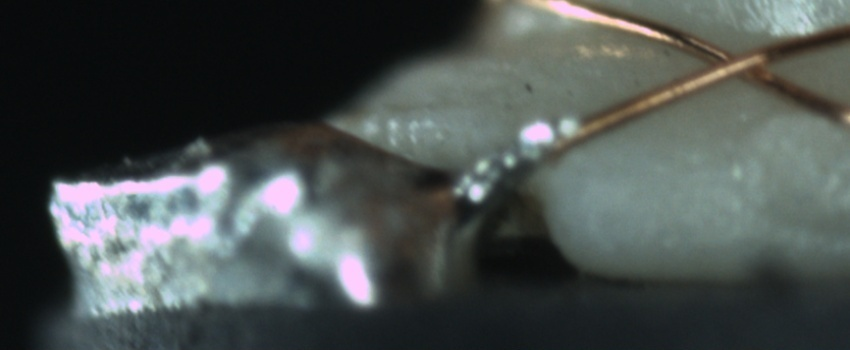CL: (687, 32, 786, 91)
TB: (450, 111, 577, 216)
TTCW: (449, 103, 623, 213)
